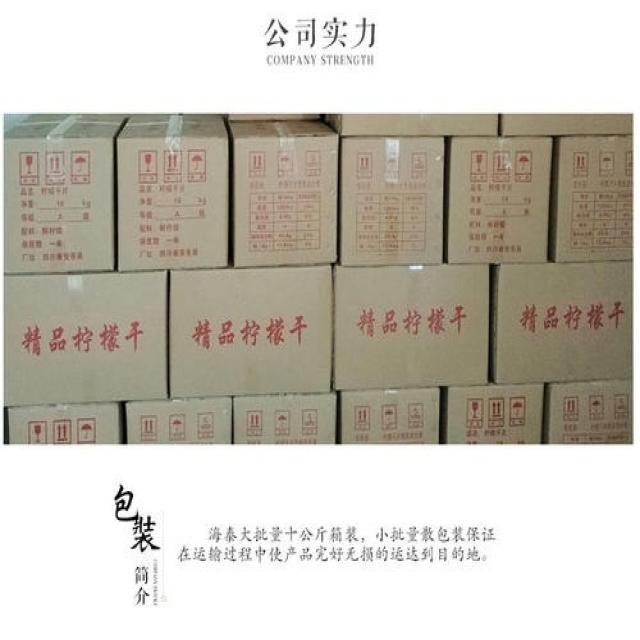Carton: (337, 137, 631, 442), (127, 268, 335, 445), (4, 272, 165, 400), (3, 112, 128, 272), (119, 112, 228, 269), (229, 117, 340, 263), (556, 137, 631, 257), (448, 389, 541, 441), (550, 382, 631, 439), (8, 404, 115, 445)
